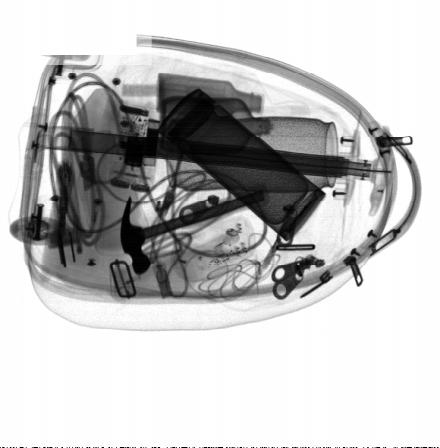Hammer: (120, 181, 272, 276)
